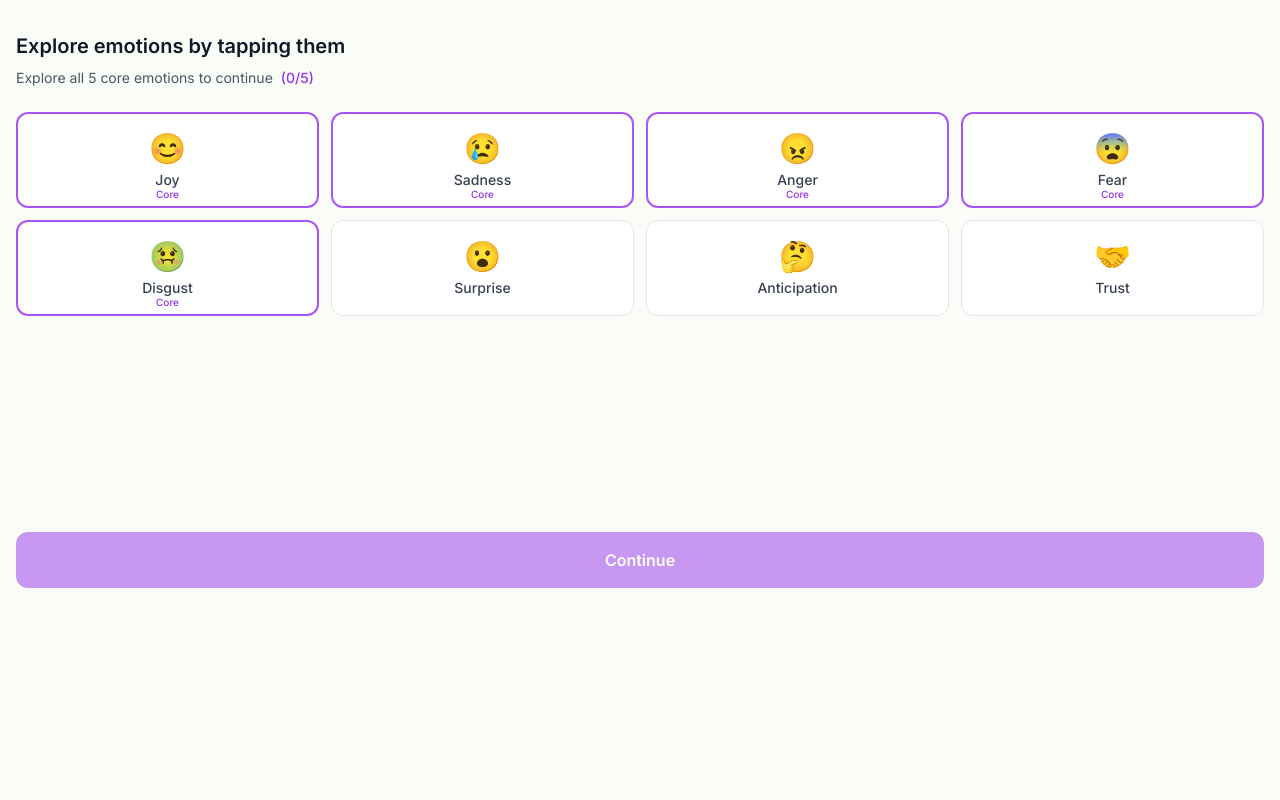
Scenario: EmojiGrid › modal functionality › opens modal when emotion is tapped
Step 1. Click the cell "😊 Joy Core" → (168, 160), box [16,112,319,208]
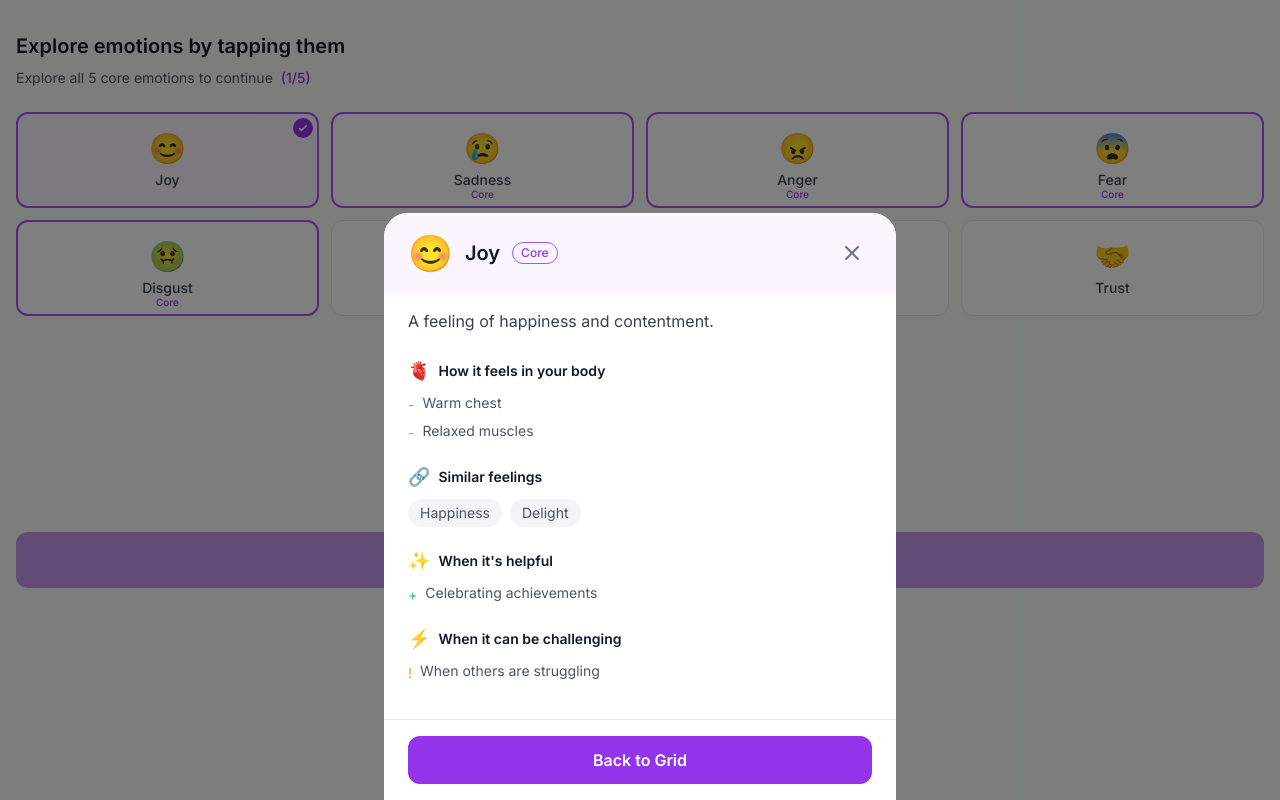
Result: the dialog is shown
Result: the text "A feeling of happiness and contentment." is shown at [408,311,714,331]
